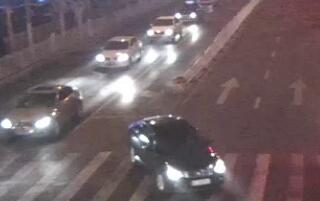car: (125, 112, 228, 197), (0, 82, 87, 141), (94, 33, 143, 69), (145, 13, 182, 40), (172, 0, 203, 21)
